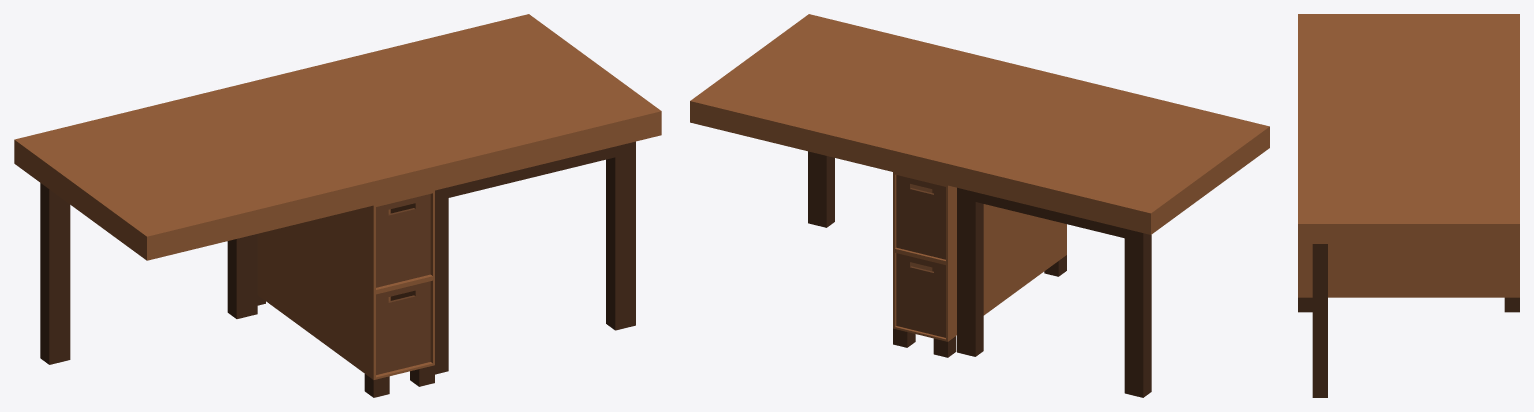
The model's file is Table_Collapsible.fbx.
3 renders of one model, left to right at view 1: azimuth 30°, elevation 25°; view 2: azimuth 150°, elevation 25°; view 3: azimuth 270°, elevation 25°, orthographic. The views are drawn at different scales.
Parts seen in each view (by area): view 1: Panel, Base, Panel2, Support2, Support, Shelf, Shelf.001; view 2: Panel, Panel2, Base, Support, Shelf.002, Shelf.003, Support2; view 3: Panel2, Base, Panel, Support2.
Part boxes in pixels (x1=…): Panel: x1=14, y1=90, x2=350, y2=260; Base: x1=218, y1=63, x2=457, y2=397; Panel2: x1=326, y1=14, x2=661, y2=184; Support2: x1=435, y1=141, x2=635, y2=374; Support: x1=40, y1=183, x2=257, y2=364; Shelf: x1=376, y1=194, x2=430, y2=287; Shelf.001: x1=376, y1=281, x2=430, y2=374; Panel: x1=968, y1=82, x2=1269, y2=234; Panel2: x1=690, y1=14, x2=990, y2=166; Base: x1=872, y1=58, x2=1086, y2=357; Support: x1=957, y1=187, x2=1151, y2=397; Shelf.002: x1=896, y1=175, x2=945, y2=259; Shelf.003: x1=896, y1=253, x2=945, y2=337; Support2: x1=808, y1=151, x2=834, y2=227; Panel2: x1=1298, y1=141, x2=1519, y2=243; Base: x1=1298, y1=97, x2=1519, y2=312; Panel: x1=1298, y1=14, x2=1519, y2=96; Support2: x1=1312, y1=244, x2=1327, y2=397.
Size of the model in its own units: 448 by 180 by 200.
